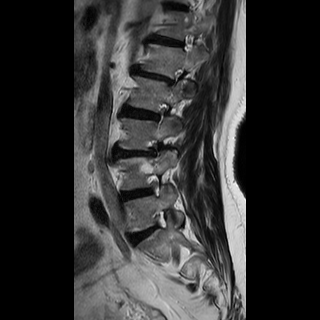RFS1: (140, 165, 169, 206)
